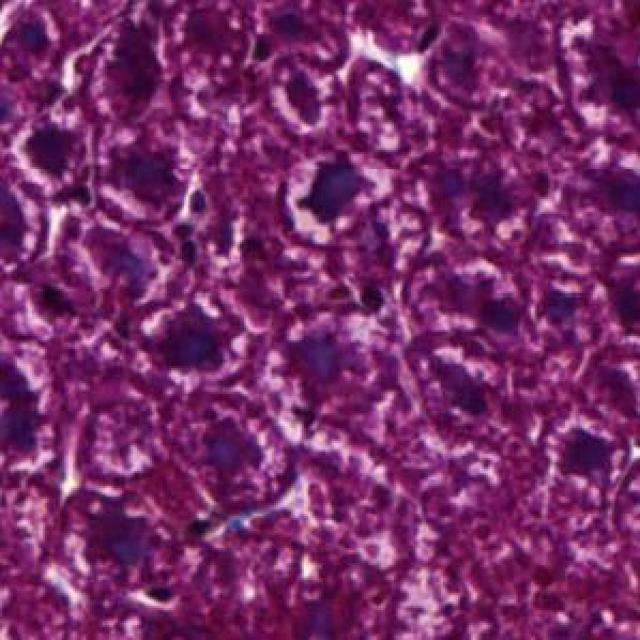inflammation: (283, 139, 396, 248), (135, 293, 250, 383), (416, 345, 494, 428)
